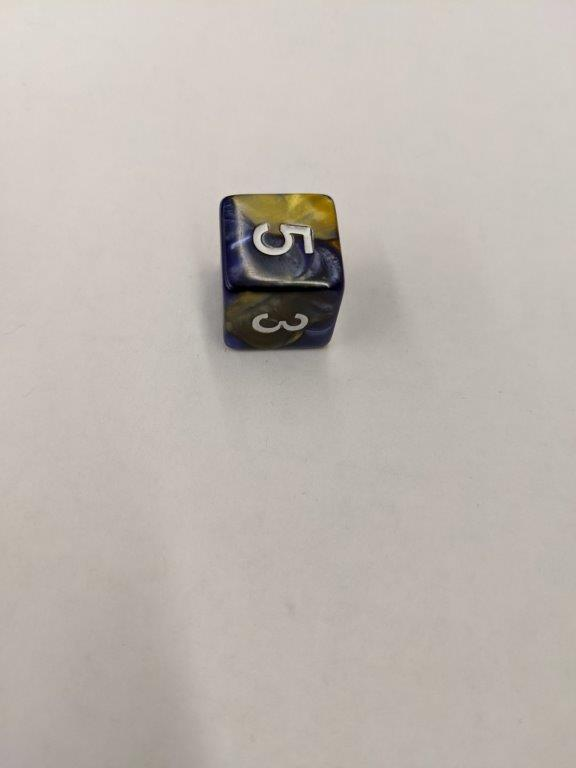d6-5: (217, 194, 347, 356)
